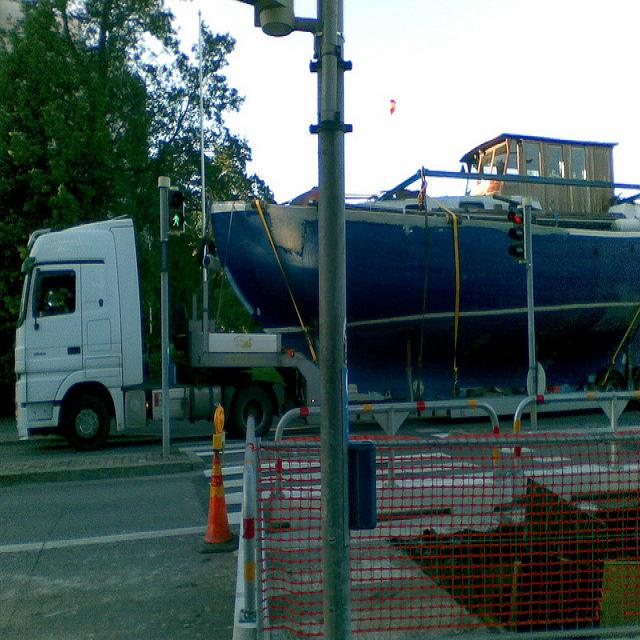Vehicle: (13, 220, 614, 453)
